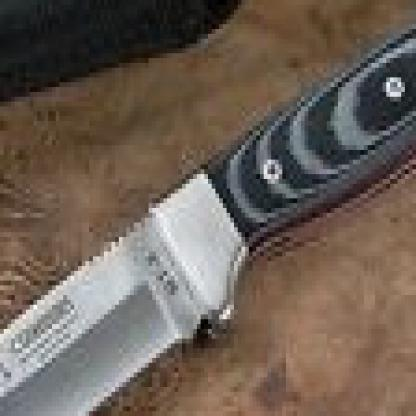knife: (0, 160, 271, 411)
